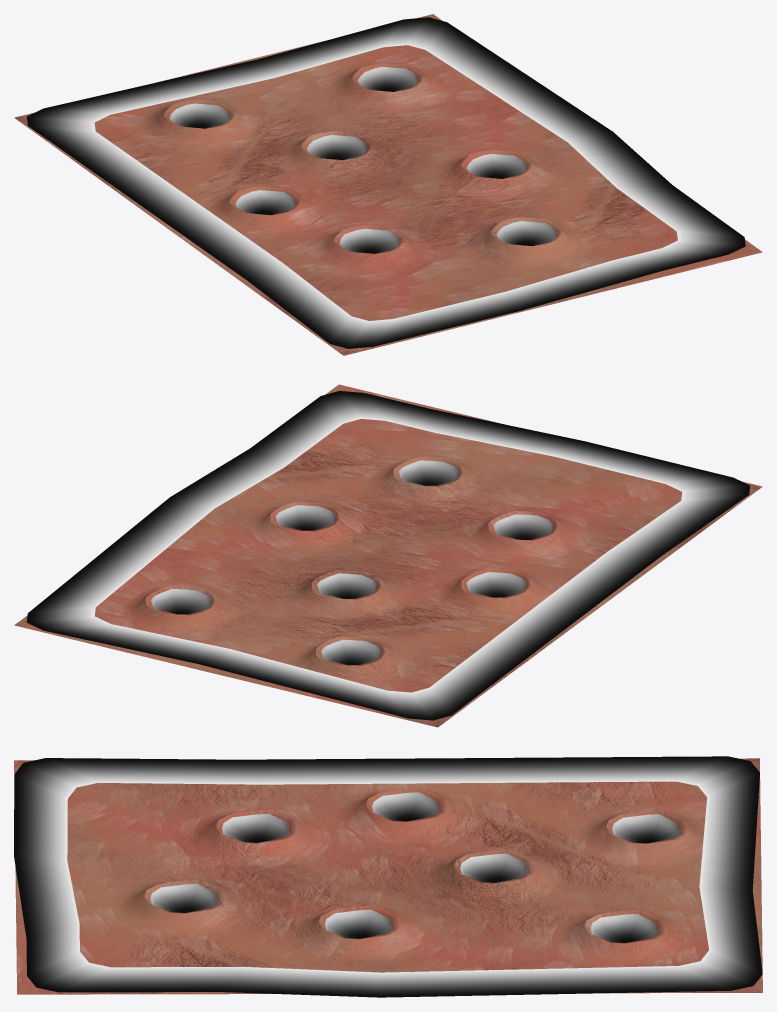
The model's file is AG_Minigame_Mole_Terrain_Art.fbx.
The picture shows the model from 3 angles, top to bottom: view 1: azimuth 30°, elevation 25°; view 2: azimuth 150°, elevation 25°; view 3: azimuth 270°, elevation 25°; orthographic projection. The views are drawn at different scales.
Parts seen in each view (by area): view 1: AG_Minigame_Mole_Terrain, AG_Minigame_Mole_Fade; view 2: AG_Minigame_Mole_Terrain, AG_Minigame_Mole_Fade; view 3: AG_Minigame_Mole_Terrain, AG_Minigame_Mole_Fade.
Part boxes in pixels (box(x1,y1,x2,y2)): AG_Minigame_Mole_Terrain: box(14, 14, 762, 355); AG_Minigame_Mole_Fade: box(26, 17, 745, 348); AG_Minigame_Mole_Terrain: box(14, 384, 762, 727); AG_Minigame_Mole_Fade: box(26, 391, 749, 720); AG_Minigame_Mole_Terrain: box(14, 758, 762, 994); AG_Minigame_Mole_Fade: box(14, 756, 762, 997).
Bounding box in the file's own units: 668 × 25.3 × 876.
